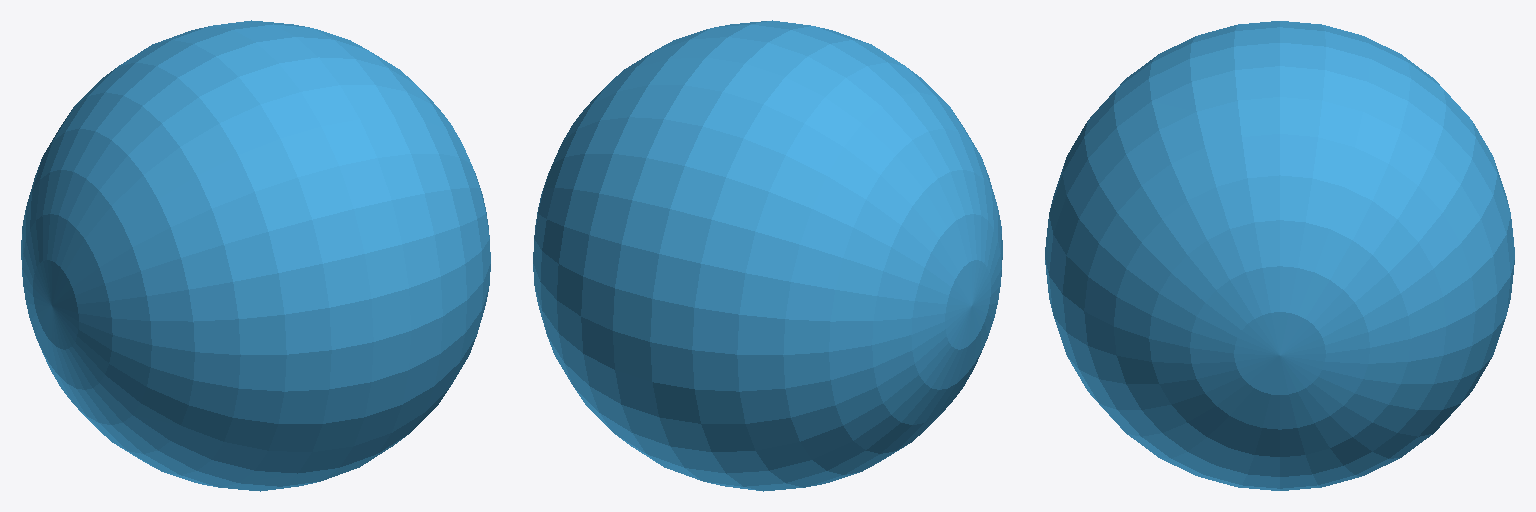
The robot description file, URDF, robot "LRMate":
<?xml version="1.0"?>
<robot name="LRMate">
	<material name="Yellow">
		<color rgba="1.0  1.0  0.0  1.0"/>
	</material>
	<material name="Black">
		<color rgba="0.0  0.0  0.0  1.0"/>
	</material>
	<material name="Gray">
		<color rgba="0.5  0.5  0.5  1.0"/>
	</material>
	<material name="Gray_2">
		<color rgba="1.0  1.0  1.0  1.0"/>
	</material>

	<link name="base">
		<inertial>
			<origin xyz="0.0  0.0  0.0" rpy="0.0  0.0  0.0"/>
			<mass value="0.0"/>
			<inertia ixx="0.0"  ixy="0.0"  ixz="0.0" iyy="0.0" iyz="0.0" izz="0.0" />
		</inertial>
		<visual name="base">
			<origin xyz="0.000   0.000   0.330" rpy="0.0  0.0  0.0"/>
			<geometry>
				<mesh filename="CAD/base.stl" scale="0.001   0.001   0.001"/>
			</geometry>
			<material name="Gray"/>
		</visual>
		<collision>
			<origin xyz="0.000   0.000   0.330" rpy="0.0  0.0  0.0"/>
			<geometry>
				<mesh filename="CAD/base.stl" scale="0.001   0.001   0.001"/>
			</geometry>
		</collision>
	</link>
	<joint name="joint_1" type="revolute">
		<origin xyz="0.000   0.000   0.330" rpy="0.0000000000000000    0.0000000000000000    0.0000000000000000"/>
		<parent link="base"/>
		<child link="link_1"/>
		<axis xyz="0 0 1"/>
		<limit effort="224.1470270270270646" lower="-3.1415926535897931" upper="3.1415926535897931" velocity="0.8726646259971648"/>
	</joint>
	<link name="link_1">
		<inertial>
			<origin xyz="0.0185909590000000    0.0033700950000000   -0.0770907100000000" rpy="-1.5707963267948966    0.0000000000000000    0.0000000000000000"/>
			<mass value="2.3984700000000001"/>
			<inertia ixx="0.0233179728630000"  ixy="0.0000000000000000"  ixz="0.0000000000000000" iyy="0.0193776178710000" iyz="0.0000000000000000" izz="0.0139141526340000" />
		</inertial>
		<visual name="link_1">
			<origin xyz="0.050   0.000   0.000" rpy="-1.5707963267948966    0.0000000000000000    0.0000000000000000"/>
			<geometry>
				<mesh filename="CAD/link1.stl" scale="0.001   0.001   0.001"/>
			</geometry>
			<material name="Yellow"/>
		</visual>
		<collision>
			<origin xyz="0.050   0.000   0.000" rpy="-1.5707963267948966    0.0000000000000000    0.0000000000000000"/>
			<geometry>
				<mesh filename="CAD/link1.stl" scale="0.001   0.001   0.001"/>
			</geometry>
		</collision>
	</link>
	<joint name="joint_2" type="revolute">
		<origin xyz="0.050   0.000   0.000" rpy="-1.5707963267948966    0.0000000000000000    0.0000000000000000"/>
		<parent link="link_1"/>
		<child link="link_2"/>
		<axis xyz="0 0 1"/>
		<limit effort="236.6760000000000161" lower="-3.1415926535897931" upper="3.1415926535897931" velocity="0.8726646259971648"/>
	</joint>
	<link name="link_2">
		<inertial>
			<origin xyz="-0.0071079890000000   -0.1326139250000000    0.0247800790000000" rpy="3.1415926535897931    0.0000000000000000   -1.5707963267948966"/>
			<mass value="7.8018689999999999"/>
			<inertia ixx="0.0328971739050000"  ixy="0.0000000000000000"  ixz="0.0000000000000000" iyy="0.2070365793270000" iyz="0.0000000000000000" izz="0.1883991938960000" />
		</inertial>
		<visual name="link_2">
			<origin xyz="0.000  -0.440   0.000" rpy="3.1415926535897931    0.0000000000000000   -1.5707963267948966"/>
			<geometry>
				<mesh filename="CAD/link2.stl" scale="0.001   0.001   0.001"/>
			</geometry>
			<material name="Yellow"/>
		</visual>
		<collision>
			<origin xyz="0.000  -0.440   0.000" rpy="3.1415926535897931    0.0000000000000000   -1.5707963267948966"/>
			<geometry>
				<mesh filename="CAD/link2.stl" scale="0.001   0.001   0.001"/>
			</geometry>
		</collision>
	</link>
	<joint name="joint_3" type="revolute">
		<origin xyz="0.000  -0.440   0.000" rpy="3.1415926535897931    0.0000000000000000   -1.5707963267948966"/>
		<parent link="link_2"/>
		<child link="link_3"/>
		<axis xyz="0 0 1"/>
		<limit effort="94.9241379310344939" lower="-3.1415926535897931" upper="3.1415926535897931" velocity="0.8726646259971648"/>
	</joint>
	<link name="link_3">
		<inertial>
			<origin xyz="0.0057931330000000   -0.0059066300000000   -0.0207324280000000" rpy="-1.5707963267948966    0.0000000000000000    0.0000000000000000"/>
			<mass value="2.9847210000000000"/>
			<inertia ixx="0.0081019474240000"  ixy="0.0000000000000000"  ixz="0.0000000000000000" iyy="0.0068697082660000" iyz="0.0000000000000000" izz="0.0079818513480000" />
		</inertial>
		<visual name="link_3">
			<origin xyz="0.035   0.000   0.000" rpy="-1.5707963267948966    0.0000000000000000    0.0000000000000000"/>
			<geometry>
				<mesh filename="CAD/link3.stl" scale="0.001   0.001   0.001"/>
			</geometry>
			<material name="Yellow"/>
		</visual>
		<collision>
			<origin xyz="0.035   0.000   0.000" rpy="-1.5707963267948966    0.0000000000000000    0.0000000000000000"/>
			<geometry>
				<mesh filename="CAD/link3.stl" scale="0.001   0.001   0.001"/>
			</geometry>
		</collision>
	</link>
	<joint name="joint_4" type="revolute">
		<origin xyz="0.035   0.000   0.000" rpy="-1.5707963267948966    0.0000000000000000    0.0000000000000000"/>
		<parent link="link_3"/>
		<child link="link_4"/>
		<axis xyz="0 0 1"/>
		<limit effort="23.8998260869565229" lower="-3.1415926535897931" upper="3.1415926535897931" velocity="0.8726646259971648"/>
	</joint>
	<link name="link_4">
		<inertial>
			<origin xyz="-0.0002457140000000    0.0028224150000000   -0.2060611280000000" rpy="1.5707963267948966    0.0000000000000000    0.0000000000000000"/>
			<mass value="4.1441780000000001"/>
			<inertia ixx="0.0529101059260000"  ixy="0.0000000000000000"  ixz="0.0000000000000000" iyy="0.0057046189630000" iyz="0.0000000000000000" izz="0.0531509714450000" />
		</inertial>
		<visual name="link_4">
			<origin xyz="0.000   0.000  -0.420" rpy="1.5707963267948966    0.0000000000000000    0.0000000000000000"/>
			<geometry>
				<mesh filename="CAD/link4.stl" scale="0.001   0.001   0.001"/>
			</geometry>
			<material name="Yellow"/>
		</visual>
		<collision>
			<origin xyz="0.000   0.000  -0.420" rpy="1.5707963267948966    0.0000000000000000    0.0000000000000000"/>
			<geometry>
				<mesh filename="CAD/link4.stl" scale="0.001   0.001   0.001"/>
			</geometry>
		</collision>
	</link>
	<joint name="joint_5" type="revolute">
		<origin xyz="0.000   0.000  -0.420" rpy="1.5707963267948966    0.0000000000000000    0.0000000000000000"/>
		<parent link="link_4"/>
		<child link="link_5"/>
		<axis xyz="0 0 1"/>
		<limit effort="13.8166666666666664" lower="-3.1415926535897931" upper="3.1415926535897931" velocity="0.8726646259971648"/>
	</joint>
	<link name="link_5">
		<inertial>
			<origin xyz="0.0000480440000000   -0.0273839680000000   -0.0044381510000000" rpy="-1.5707963267948966    0.0000000000000000    0.0000000000000000"/>
			<mass value="1.8704200000000000"/>
			<inertia ixx="0.0024795564500000"  ixy="0.0000000000000000"  ixz="0.0000000000000000" iyy="0.0024375453070000" iyz="0.0000000000000000" izz="0.0012003431970000" />
		</inertial>
		<visual name="link_5">
			<origin xyz="0.000   0.000   0.000" rpy="-1.5707963267948966    0.0000000000000000    0.0000000000000000"/>
			<geometry>
				<mesh filename="CAD/link5.stl" scale="0.001   0.001   0.001"/>
			</geometry>
			<material name="Yellow"/>
		</visual>
		<collision>
			<origin xyz="0.000   0.000   0.000" rpy="-1.5707963267948966    0.0000000000000000    0.0000000000000000"/>
			<geometry>
				<mesh filename="CAD/link5.stl" scale="0.001   0.001   0.001"/>
			</geometry>
		</collision>
	</link>

	<!-- gripper -->
	<link name="gripper_hand">
		<inertial>
			<origin rpy="0 0 0" xyz="0 0 0.04"/>
			<mass value=".81"/>
			<inertia ixx="0.1" ixy="0" ixz="0" iyy="0.1" iyz="0" izz="0.1"/>
		</inertial>
		<visual>
			<geometry>
				<mesh filename="CAD/gripper_2/visual/sensor_hand.stl" scale="0.001 0.001 0.001"/>
			</geometry>
			<material name="Gray_2"/>
		</visual>
		<collision>
		<geometry>
			<mesh filename="CAD/gripper_2/collision/sensor_hand.stl" scale="0.001 0.001 0.001"/>
		</geometry>
		<material name="Gray_2"/>
		</collision>
  	</link>

  	<link name="gripper_leftfinger">
		<contact>
			<friction_anchor/>
			<stiffness value="30000.0"/>
			<damping value="1000.0"/>
			<spinning_friction value="0.1"/>
			<!-- <rolling_friction value="0.1"/> -->
			<lateral_friction value="1.0"/>
		</contact>
		<inertial>
			<origin rpy="0 0 0" xyz="0 0.01 0.02"/>
			<mass value="0.1"/>
			<inertia ixx="0.1" ixy="0" ixz="0" iyy="0.1" iyz="0" izz="0.1"/>
		</inertial>
		<visual>
			<geometry>
				<mesh filename="CAD/gripper_2/visual/finger.stl" scale="0.001 0.001 0.001"/>
			</geometry>
			<material name="Gray_2"/>
		</visual>
		<collision>
			<geometry>
				<mesh filename="CAD/gripper_2/collision/finger.stl" scale="0.001 0.001 0.001"/>
			</geometry>
			<material name="Gray_2"/>
		</collision>
	</link>

  	<link name="gripper_rightfinger">
    	<contact>
			<friction_anchor/>
			<stiffness value="30000.0"/>
			<damping value="1000.0"/>
			<spinning_friction value="0.1"/>
			<!-- <rolling_friction value="0.1"/> -->
			<lateral_friction value="1.0"/>
		</contact>

  		<inertial>
			<origin rpy="0 0 0" xyz="0 -0.01 0.02"/>
			<mass value="0.1"/>
			<inertia ixx="0.1" ixy="0" ixz="0" iyy="0.1" iyz="0" izz="0.1"/>
		</inertial>
		<visual>
			<origin rpy="0 0 3.14159265359" xyz="0 0 0"/>
			<geometry>
				<mesh filename="CAD/gripper_2/visual/finger.stl" scale="0.001 0.001 0.001"/>
			</geometry>
			<material name="Gray_2"/>
		</visual>
		<collision>
			<origin rpy="0 0 3.14159265359" xyz="0 0 0"/>
			<geometry>
				<mesh filename="CAD/gripper_2/collision/finger.stl" scale="0.001 0.001 0.001"/>
			</geometry>
			<material name="Gray_2"/>
		</collision>
  	</link>

	<joint name="joint_6" type="revolute">
        <origin rpy="0.0 1.5707963267948966 0.0" xyz="0 -0.0775 0.0"/>
        <parent link="link_5"/>
        <child link="gripper_hand"/>
		<axis xyz="0 1 0"/>
		<limit effort="6.8606896551724139" lower="-3.1415926535897931" upper="3.1415926535897931" velocity="0.8726646259971648"/>
    </joint>

	<joint name="gripper_finger_joint1" type="prismatic">
		<parent link="gripper_hand"/>
		<child link="gripper_leftfinger"/>
		<origin rpy="0 -1.5707963267948966 0" xyz="-0.04 -0.150 0"/>
		<axis xyz="0 0 -1"/>
		<limit effort="1000" lower="0.0" upper="0.04" velocity="2.0"/>
	</joint>


	<joint name="gripper_finger_joint2" type="prismatic">
		<parent link="gripper_hand"/>
		<child link="gripper_rightfinger"/>
		<origin rpy="3.14159265359 -1.5707963267948966 0" xyz="0.04 -0.150 0"/>
		<axis xyz="0 0 -1"/>
		<limit effort="1000" lower="0.0" upper="0.04" velocity="2.0"/>
		<mimic joint="gripper_finger_joint1"/>
	</joint>

	<!-- grasp target -->
	<link name="grasptarget">
     	<inertial>
      		<origin rpy="0 0 0" xyz="0 0 0"/>
       		<mass value="0.001"/>
       		<inertia ixx="0.1" ixy="0" ixz="0" iyy="0.1" iyz="0" izz="0.1"/>
    	</inertial>
    	<visual>
      		<geometry>
        		<sphere radius="0.003"/>
      		</geometry>
      		<color rgba="1. 0. 0. 1.0"/>
    	</visual>
   </link>

	<joint name="lrmate_grasptarget_hand" type="fixed">
		<parent link="gripper_hand"/>
		<child link="grasptarget"/>
		<origin rpy="1.5707963267948966 -1.5707963267948966 0" xyz="0 -0.245 0"/>
	</joint>
    
</robot>

--- Render facts (derived) ---
The picture shows the robot from 3 angles, left to right: view 1: azimuth 30°, elevation 25°; view 2: azimuth 150°, elevation 25°; view 3: azimuth 270°, elevation 25°; orthographic projection.
Robot: LRMate — 10 links, 9 joints (6 revolute, 2 prismatic, 1 fixed); root link base; default pose: all joints at 0.
Visible links, largest first — view 1: grasptarget; view 2: grasptarget; view 3: grasptarget.
Link boxes in pixels (<box>): grasptarget: <box>21,20,490,491</box>; grasptarget: <box>533,20,1002,491</box>; grasptarget: <box>1045,21,1514,490</box>.
Size in the robot's own frame: 0.006 by 0.006 by 0.006 metres.
0 mesh visuals loaded from 8 distinct referenced files (none loaded); not drawn: 9 (reference not matched to a file when rendering).